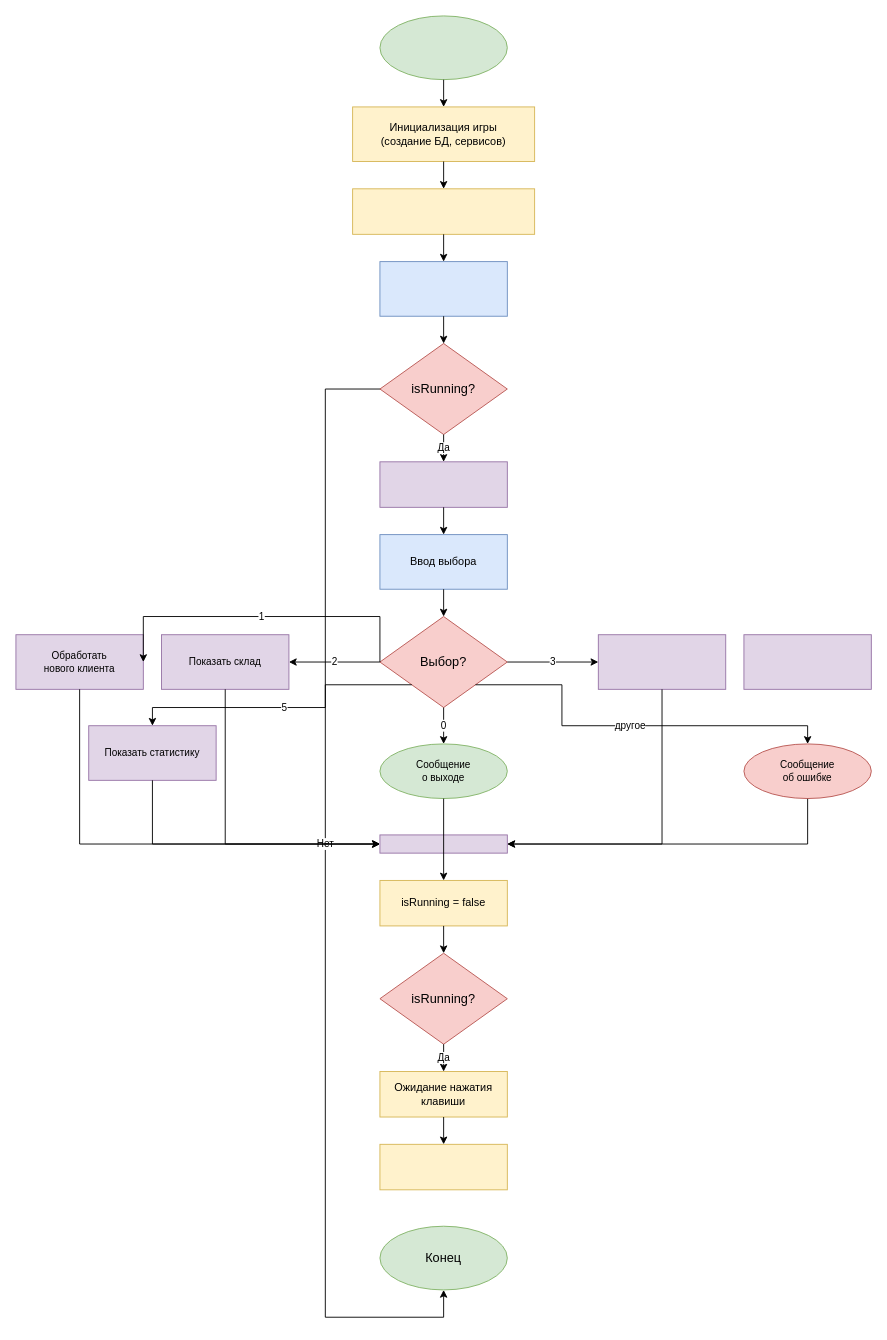
Image size: 887x1340. Some labels were removed from this diagram. The shapes that lost their labels are listed below. From the top down, each one's centre as x and y in pixels, then its label:
At point 443,47: "Начало".
At point 443,211: "Загрузка начальных данных".
At point 443,288: "isRunning = true".
At point 443,484: "Показать меню".
At point 661,661: "Показать магазин".
At point 807,661: "Показать баланс".
At point 443,1166: "Очистить экран".
